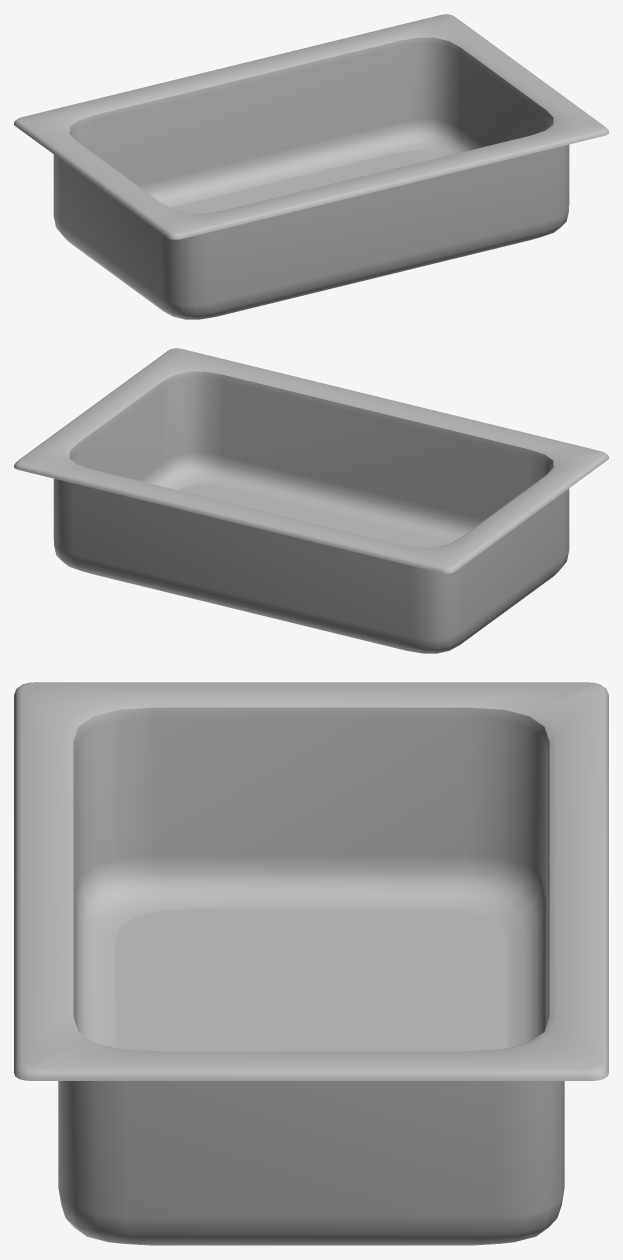
The model's file is SM_Foodcontainer_Foodcontainer.fbx.
3 renders of one model, top to bottom at view 1: azimuth 30°, elevation 25°; view 2: azimuth 150°, elevation 25°; view 3: azimuth 270°, elevation 25°, orthographic. The views are drawn at different scales.
Visible parts, largest first — view 1: SM_Foodcontainer_Foodcontainer; view 2: SM_Foodcontainer_Foodcontainer; view 3: SM_Foodcontainer_Foodcontainer.
Boxes of the visible parts, x1,y1,x2,y2 form: SM_Foodcontainer_Foodcontainer: (14, 14, 608, 319); SM_Foodcontainer_Foodcontainer: (14, 348, 608, 653); SM_Foodcontainer_Foodcontainer: (14, 682, 608, 1245).
Bounding box in the file's own units: 53.05 × 33.87 × 12.79.
Materials: 1 (1 with a texture image).
